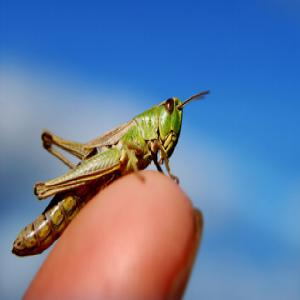locust: (15, 79, 203, 255)
